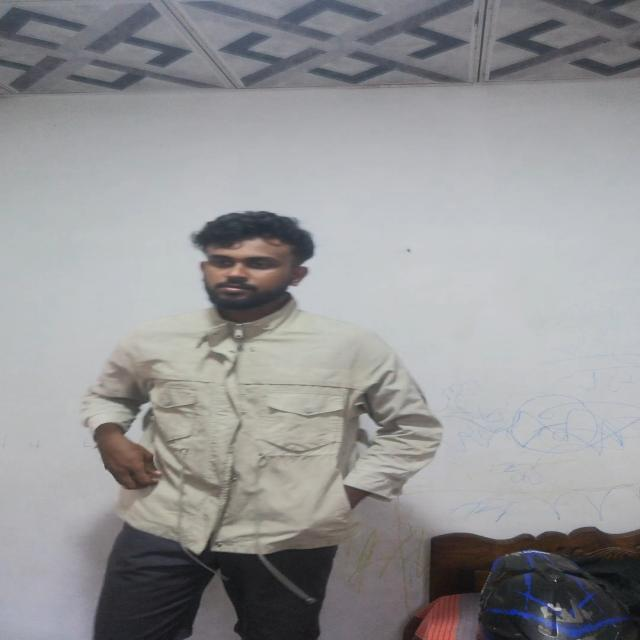Jacket_Wearer: (110, 295, 442, 557)
Person: (110, 213, 462, 630)
